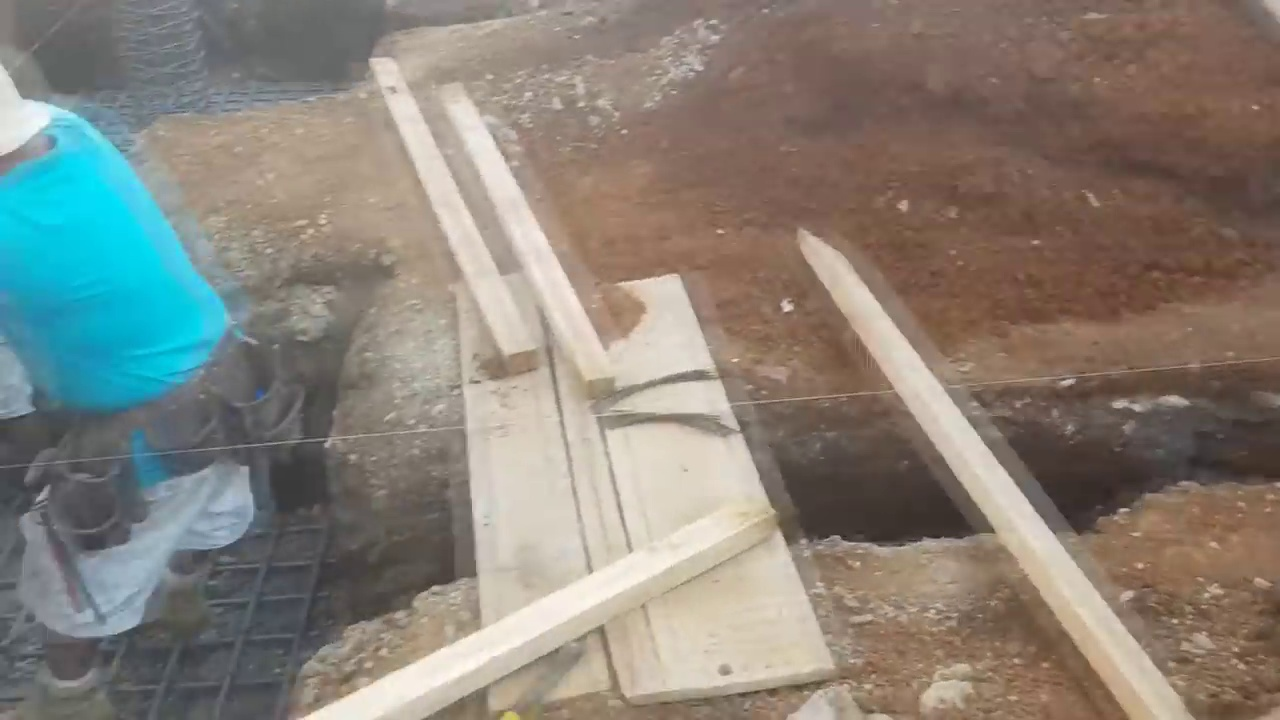helmet-off: (0, 52, 66, 190)
person: (0, 63, 251, 717)
